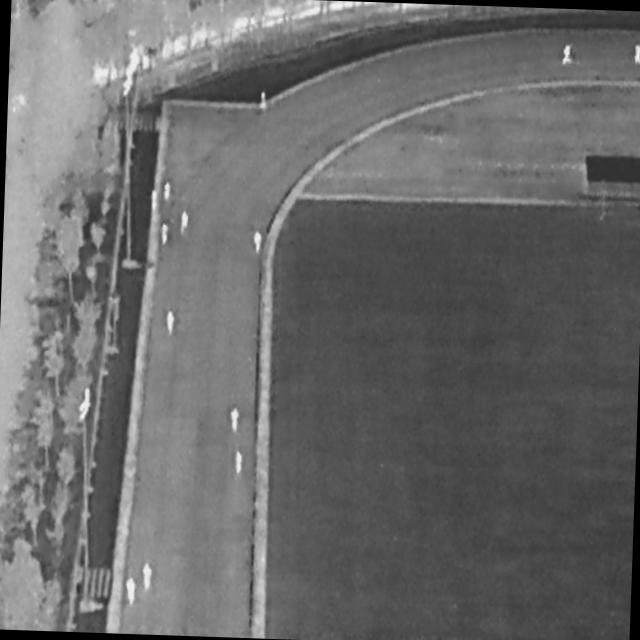person: (126, 577, 138, 606), (142, 564, 153, 592), (229, 408, 240, 432), (253, 230, 263, 254), (167, 311, 176, 336), (235, 451, 244, 476), (151, 190, 160, 214), (161, 223, 170, 247), (180, 211, 189, 235), (563, 45, 572, 66), (164, 182, 172, 203), (260, 92, 268, 111), (634, 44, 640, 65)
